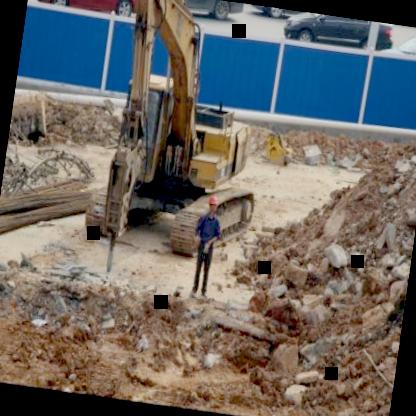helmet: (202, 190, 223, 218)
